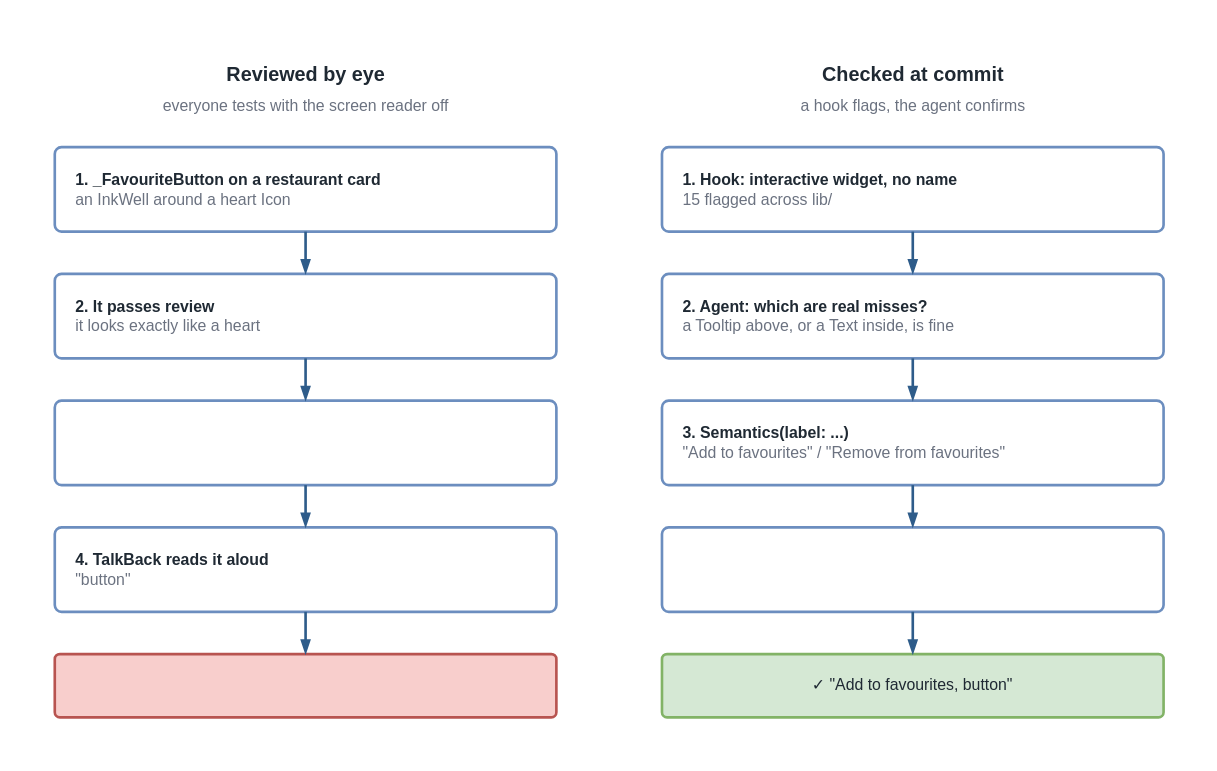
This 1217x771 diagram has some shape labels left out. The shapes that lost their labels are listed below. From the top down, each one's centre as x and y in pixels, then its label:
At point 305,442: "3. No Tooltip, no Semantics nothing for a screen reader to say".
At point 912,568: "4. A four-step manual TalkBack script the part no agent can judge".
At point 305,685: "✗ Silent for the team, loud for the user".
